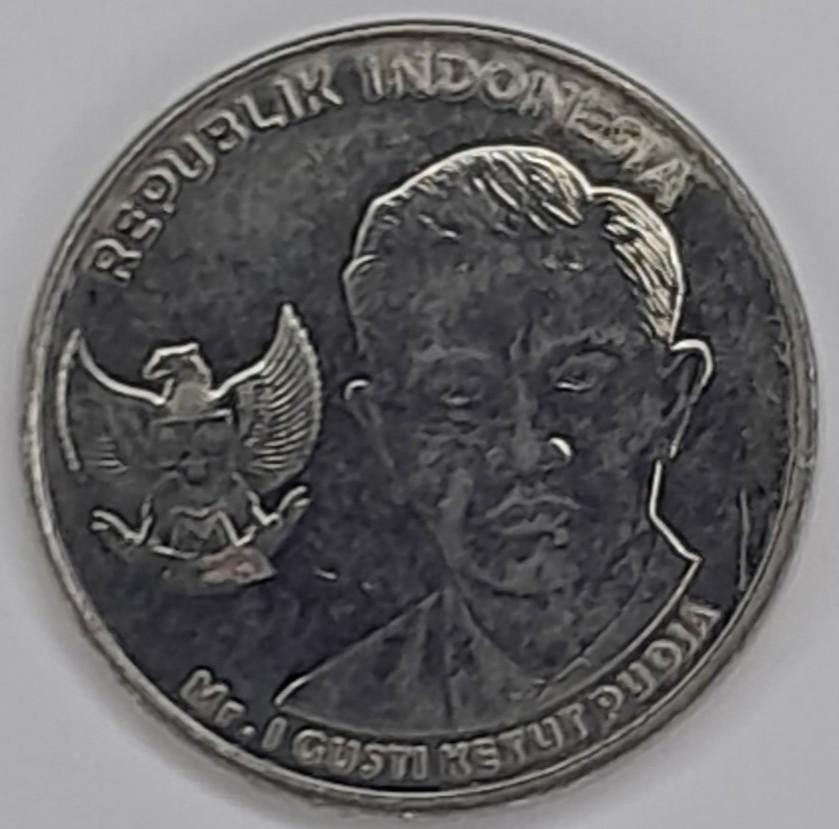coin_1000_e2016: (14, 16, 828, 829)
